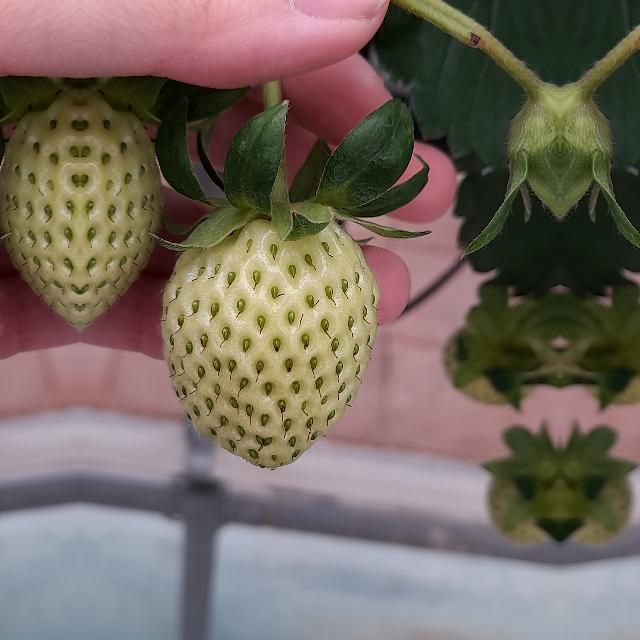Health_25: (160, 218, 380, 468), (80, 88, 164, 332), (0, 87, 80, 332)
